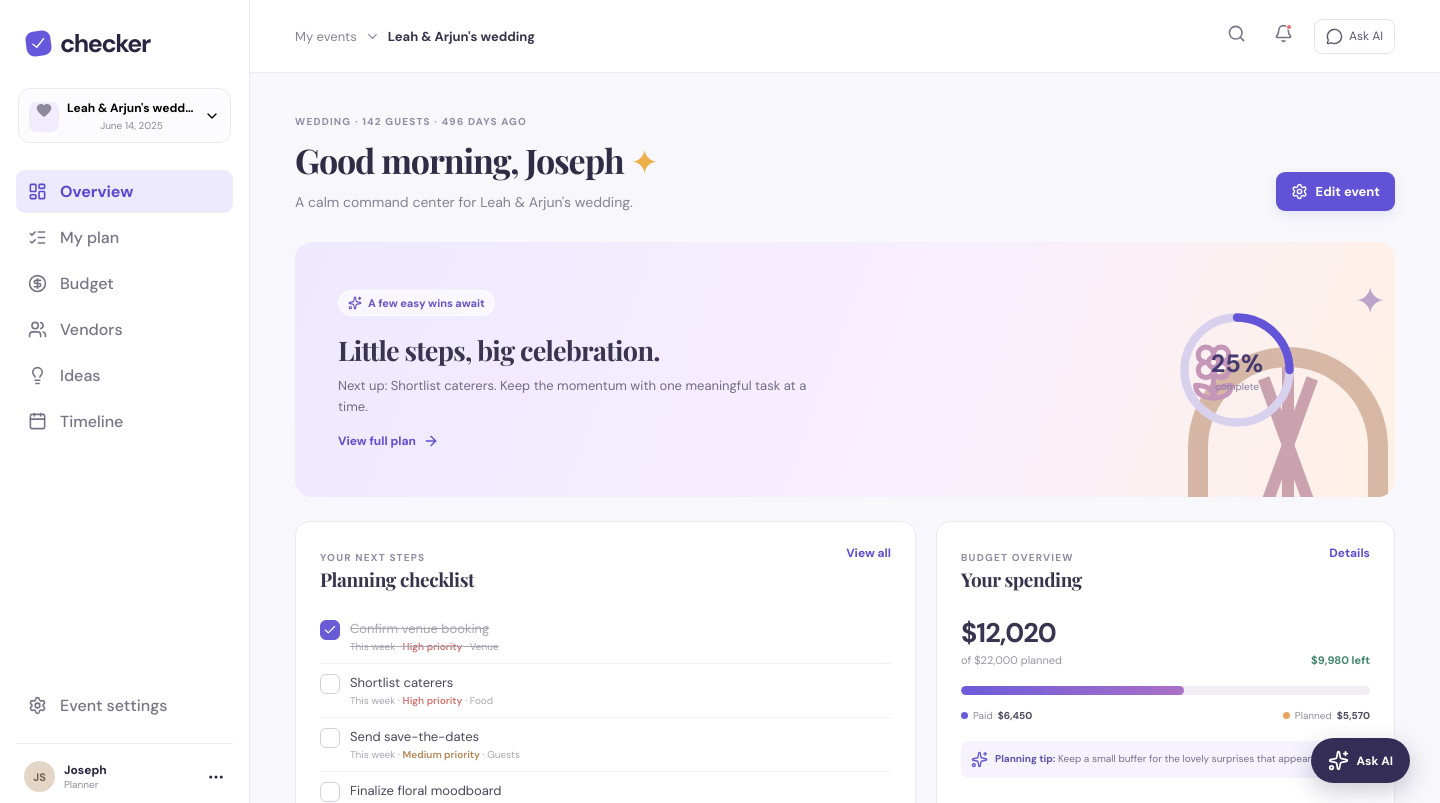
Test case: Checker event planner – App integration › opens the search dialog
This screenshot has width=1440, height=803.
Click the button named "search tasks and vendors" at coordinates (1236, 36), box [1220,17,1253,55]
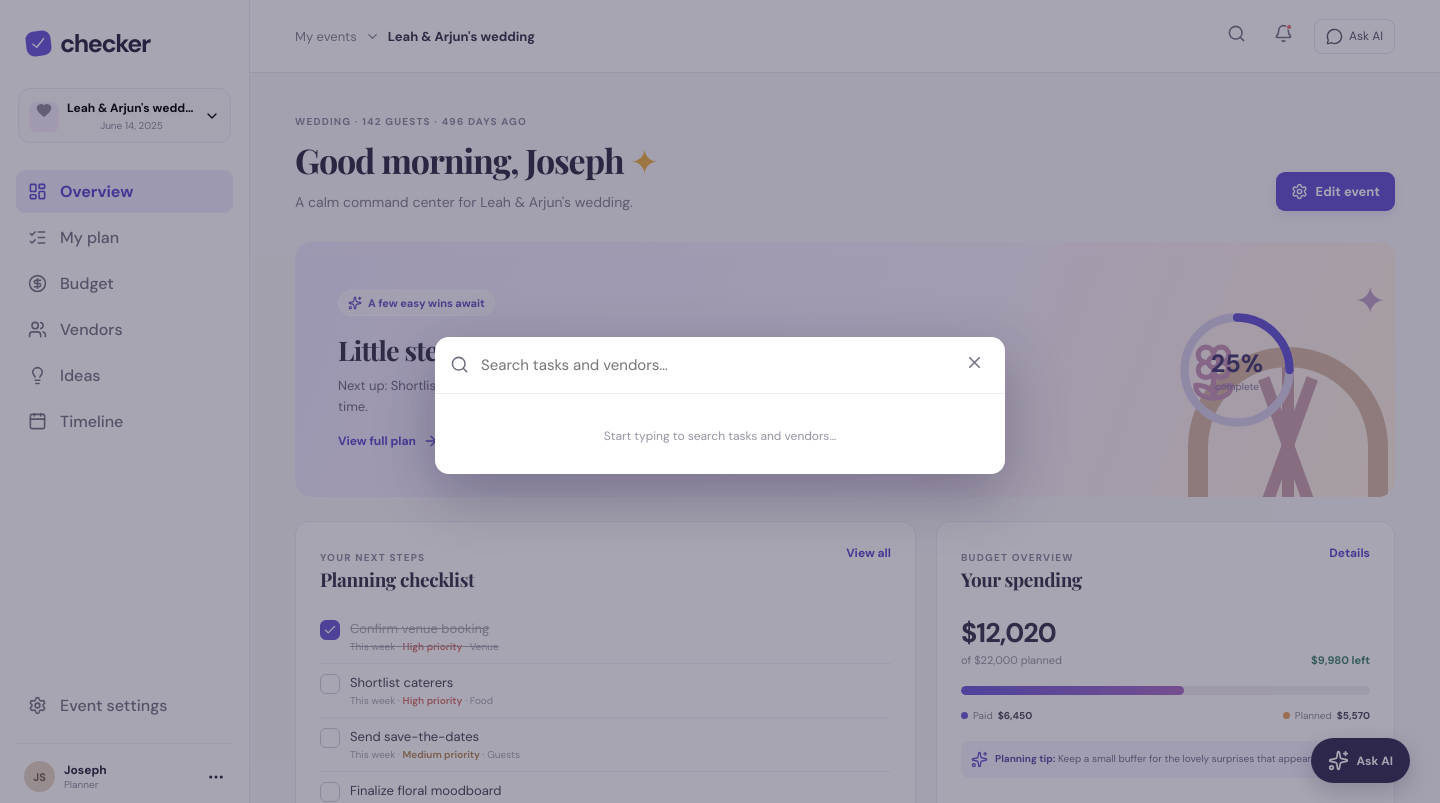
Result: the dialog "Start typing to search tasks and vendors…" is shown at [435,336,1005,474]
